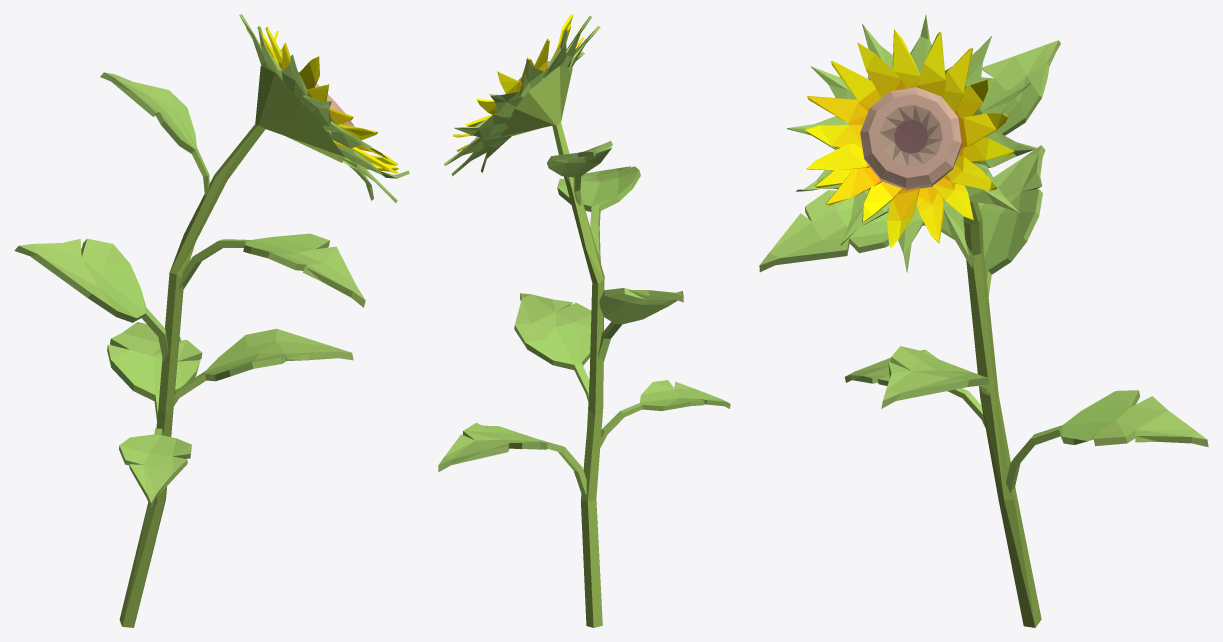
Rendered from sunflower_04.glb.
3 views of the same model, side by side, from view 1: azimuth 30°, elevation 25°; view 2: azimuth 150°, elevation 25°; view 3: azimuth 270°, elevation 25° (orthographic). The views are drawn at different scales.
Visible parts, largest first — view 1: PP_Sunflower_04.002; view 2: PP_Sunflower_04.002; view 3: PP_Sunflower_04.002.
Part boxes in pixels (box(x1,y1,x2,y2)): PP_Sunflower_04.002: box(14, 14, 409, 627); PP_Sunflower_04.002: box(438, 14, 730, 627); PP_Sunflower_04.002: box(759, 14, 1208, 627).
Bounding box in the file's own units: 0.4694 × 0.8879 × 0.554.
